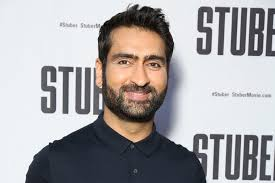middle_eastern_male: (91, 13, 169, 117)
